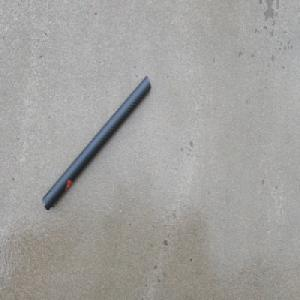LuggagePart: (41, 75, 151, 214)
